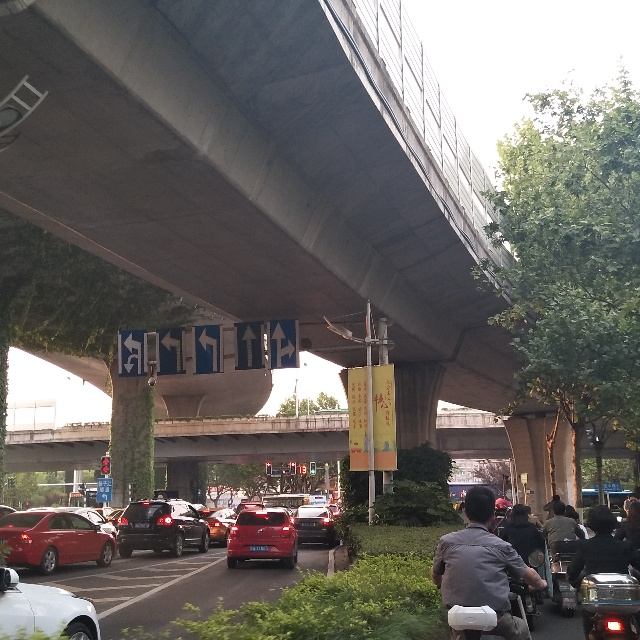left: (194, 325, 224, 372), (159, 327, 186, 372)
straight: (236, 323, 265, 369)
